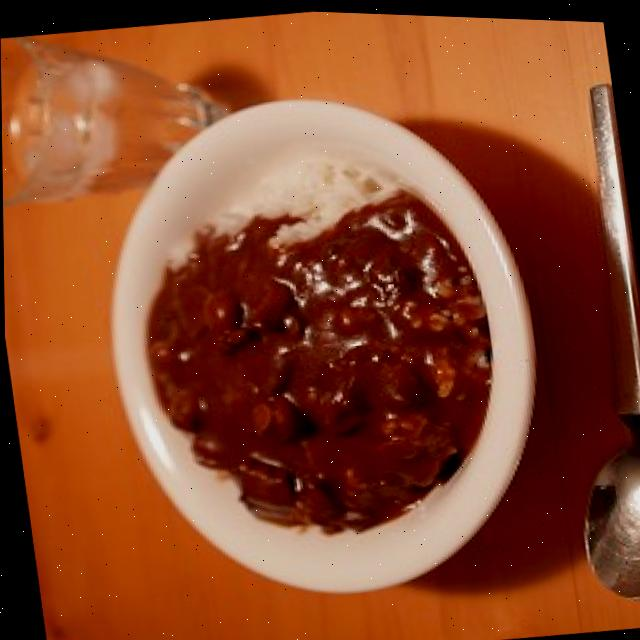牛肉菜式: (69, 65, 560, 626)
